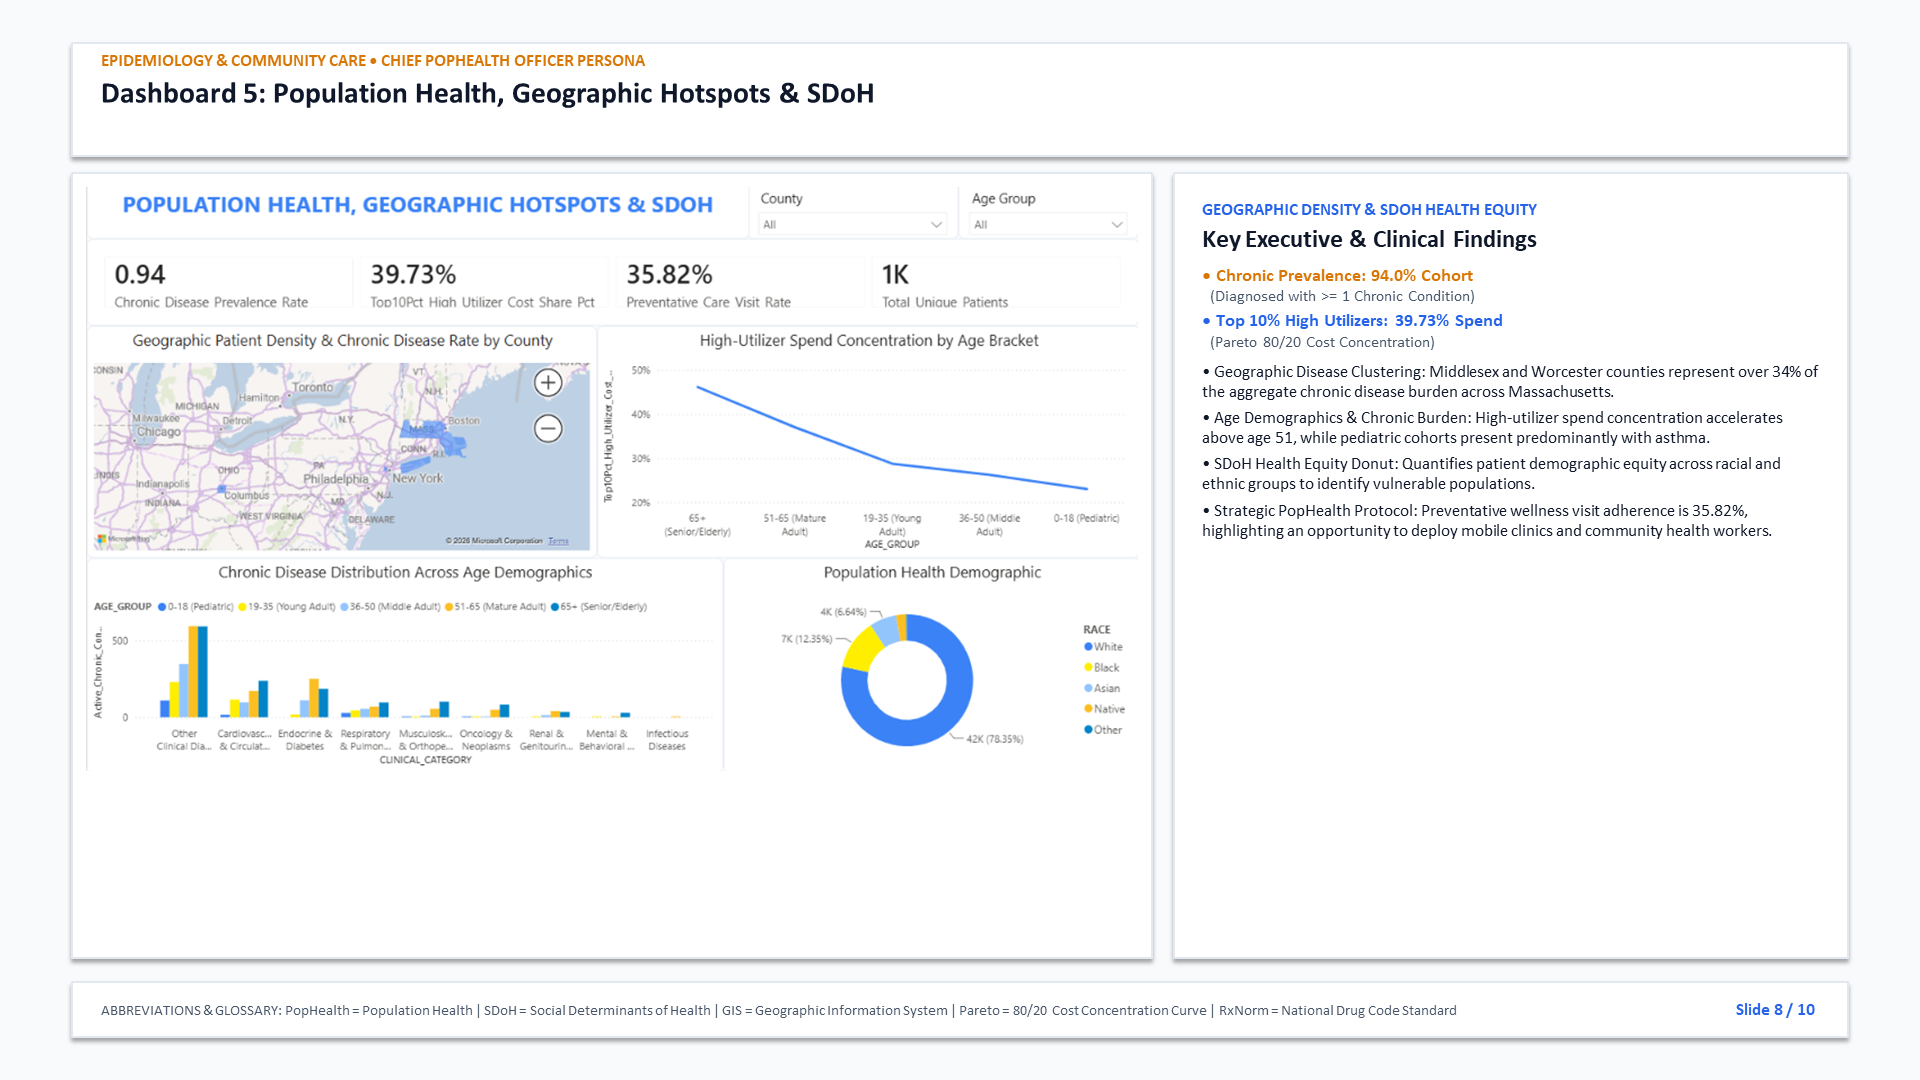

This screenshot's page, from the dashboard's own definition file:
{"tool":"powerbi","page":{"name":"Population Health & SDoH","canvas":[1280,720],"ordinal":4},"visuals":[{"type":"slicer","fields":{"Values":["Dim_Patients.COUNTY"]},"box":[802.7,0,256.6,70],"z":0},{"type":"slicer","fields":{"Values":["Dim_Patients.AGE_GROUP"]},"box":[1059.4,0,219.6,70],"z":1000},{"type":"textbox","box":[0,0,805.5,70],"z":2000},{"type":"cardVisual","fields":{"Data":["_Measures.Chronic_Disease_Prevalence_Rate","_Measures.Top10Pct_High_Utilizer_Cost_Share_Pct","_Measures.Preventative_Care_Visit_Rate","_Measures.Total_Unique_Patients"]},"box":[0,70,1278.9,105.7],"z":3000},{"type":"filledMap","title":"Geographic Patient Density & Chronic Disease Rate by County","fields":{"Category":["Dim_Patients.COUNTY"]},"box":[0,175.6,620.2,282.7],"z":4000},{"type":"lineChart","title":"High-Utilizer Spend Concentration by Age Bracket","fields":{"Category":["Dim_Patients.AGE_GROUP"],"Y":["_Measures.Top10Pct_High_Utilizer_Cost_Share_Pct"]},"box":[620.2,175.6,660,282.7],"z":5000},{"type":"donutChart","title":"Population Health Demographic","fields":{"Category":["Dim_Patients.RACE"],"Y":["_Measures.Total_Encounters"]},"box":[773.3,458.3,506.7,261.7],"z":6000},{"type":"clusteredColumnChart","title":"Chronic Disease Distribution Across Age Demographics","fields":{"Category":["Fact_Conditions.CLINICAL_CATEGORY"],"Series":["Dim_Patients.AGE_GROUP"],"Y":["_Measures.Active_Chronic_Conditions_Count"]},"box":[0,458.3,773.3,261.7],"z":7000}]}

Visuals, with their boxes in screenshot pixels (x1, y1, x2, y2), scaled from the page's 1280x720 canvas onto the 1920x1080 screenshot:
slicer - Dim_Patients.COUNTY: [1204,0,1589,105]
slicer - Dim_Patients.AGE_GROUP: [1589,0,1918,105]
textbox: [0,0,1208,105]
cardVisual - _Measures.Chronic_Disease_Prevalence_Rate x _Measures.Top10Pct_High_Utilizer_Cost_Share_Pct: [0,105,1918,264]
"Geographic Patient Density & Chronic Disease Rate by County" filledMap: [0,263,930,687]
"High-Utilizer Spend Concentration by Age Bracket" lineChart: [930,263,1919,687]
"Population Health Demographic" donutChart: [1160,687,1919,1079]
"Chronic Disease Distribution Across Age Demographics" clusteredColumnChart: [0,687,1160,1079]
